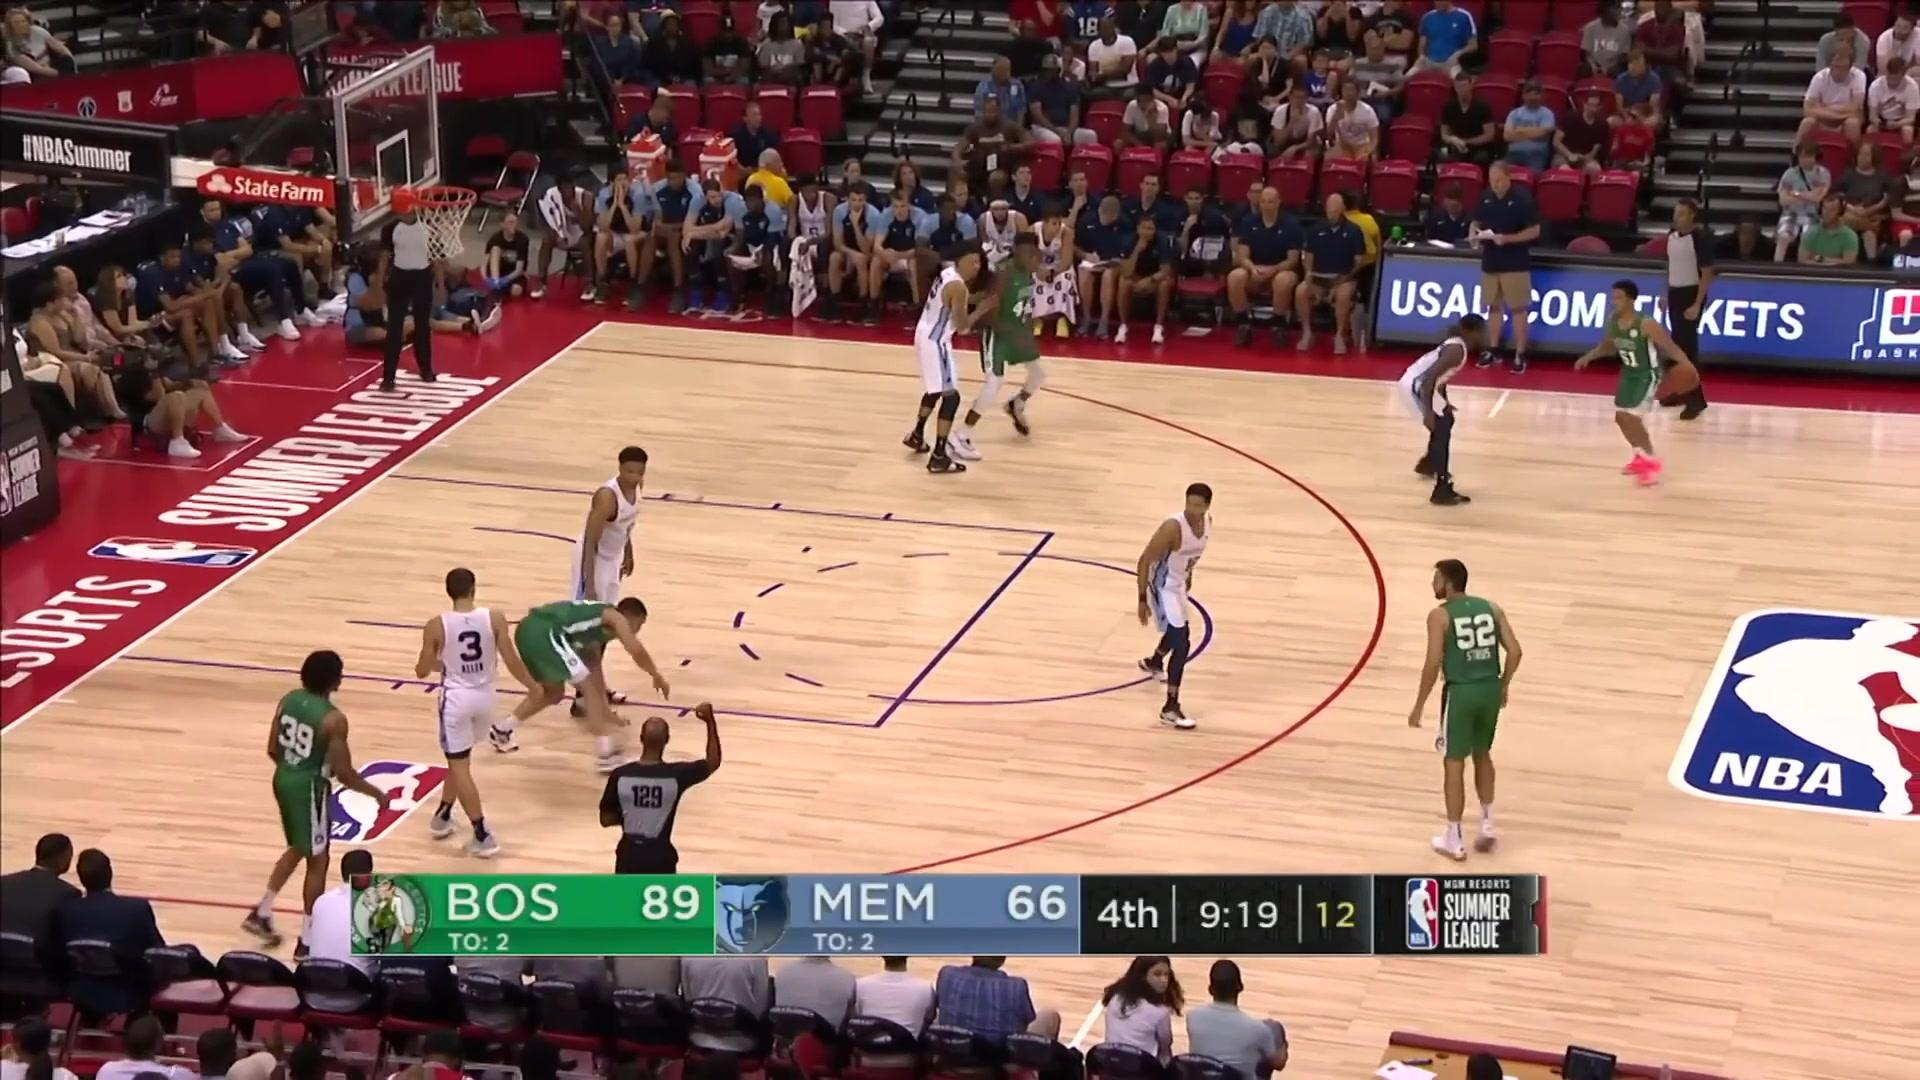foul: (407, 560, 671, 793)
